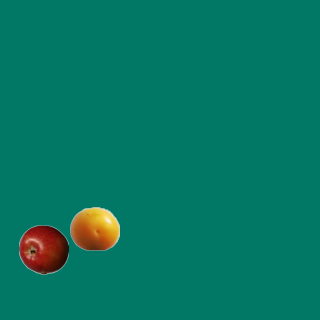Apple Braeburn: (18, 224, 68, 274)
Cherry Wax Yellow: (69, 203, 119, 253)
